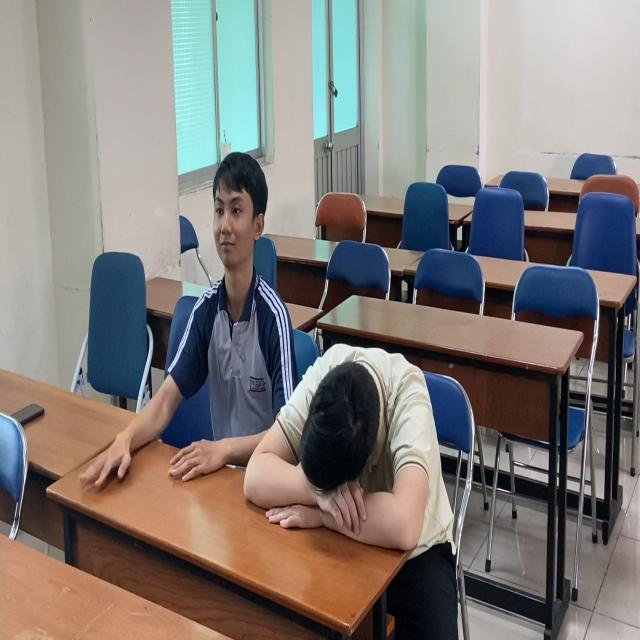sleep: (235, 338, 455, 560)
